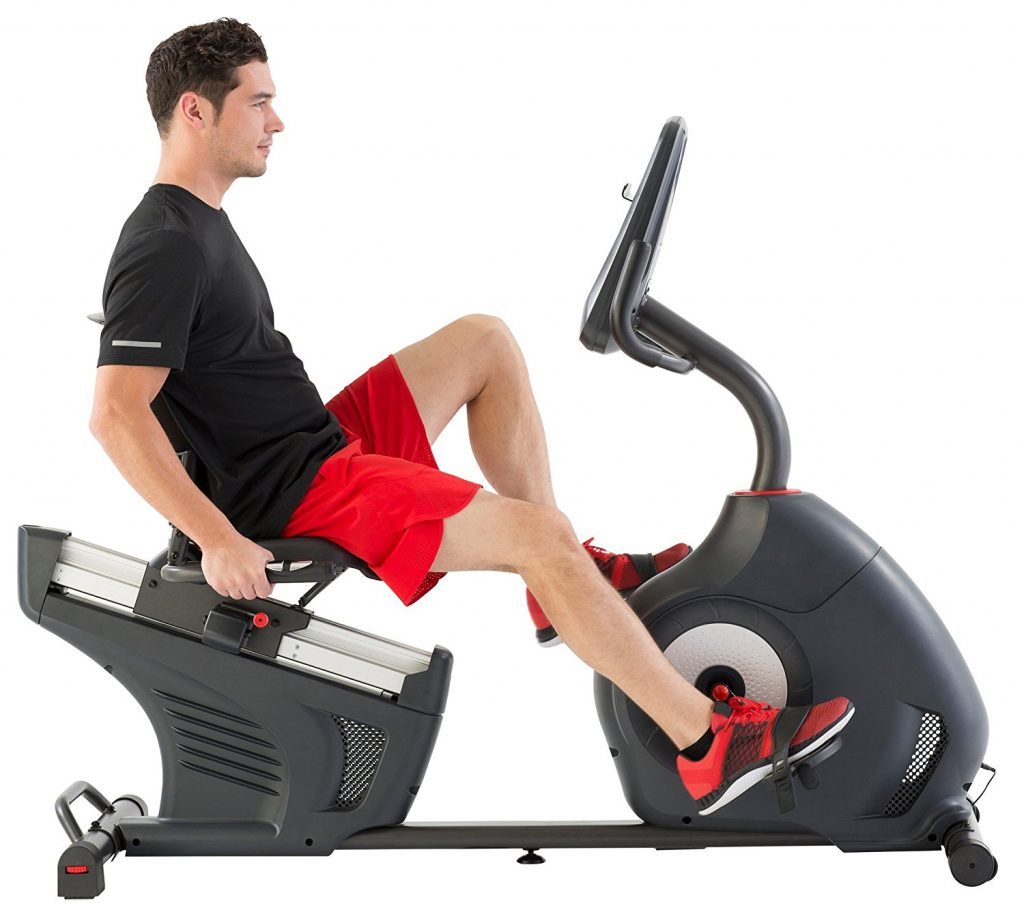gym_bike: (12, 100, 1002, 889)
